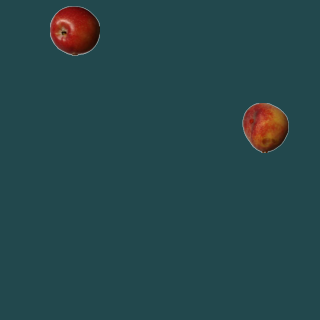Apple Braeburn: (49, 5, 99, 55)
Peach: (240, 102, 290, 152)
